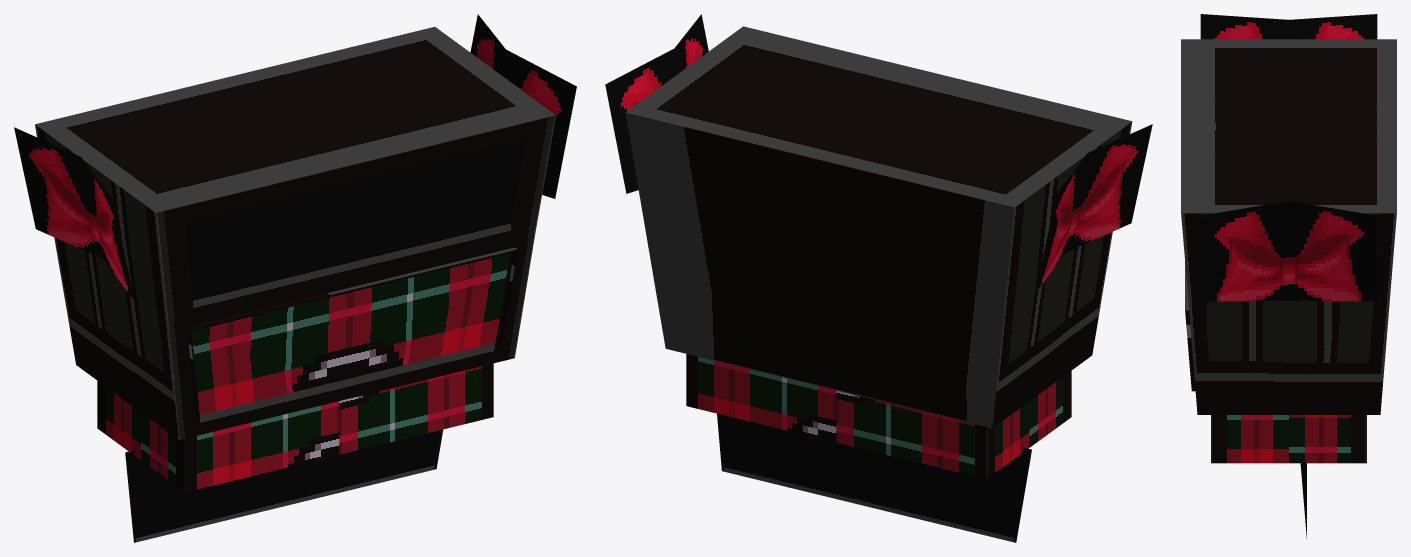
3 renders of one model, left to right at view 1: azimuth 30°, elevation 25°; view 2: azimuth 150°, elevation 25°; view 3: azimuth 270°, elevation 25°, orthographic. The views are drawn at different scales.
Visible parts, largest first — view 1: 3830kg3_ser11; view 2: 3830kg3_ser11; view 3: 3830kg3_ser11.
Boxes of the visible parts, bbox=[...] form: 3830kg3_ser11: bbox=[14, 14, 576, 542]; 3830kg3_ser11: bbox=[605, 14, 1152, 542]; 3830kg3_ser11: bbox=[1181, 14, 1396, 538].
Bounding box in the file's own units: 1.51 × 1.28 × 0.6816.
3 materials, 3 textured.
